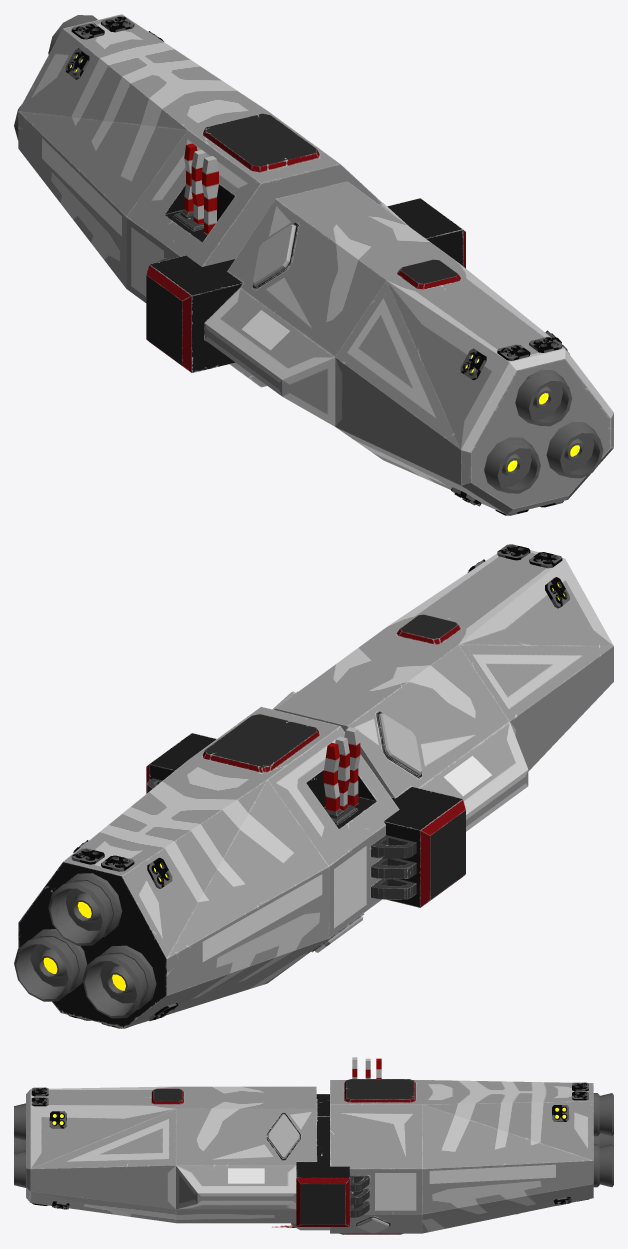
Rendered from Moxella Final.fbx.
3 views of the same model, one above another, from view 1: azimuth 30°, elevation 25°; view 2: azimuth 150°, elevation 25°; view 3: azimuth 270°, elevation 25° (orthographic). The views are drawn at different scales.
Parts seen in each view (by area): view 1: Moxella_Remake_Bow_Section, Moxella_Remake_Stern Section, Moxella_Remake_Engines; view 2: Moxella_Remake_Stern Section, Moxella_Remake_Bow_Section, Moxella_Remake_Engines; view 3: Moxella_Remake_Bow_Section, Moxella_Remake_Stern Section, Moxella_Remake_Engines.
Boxes of the visible parts, box(x1,y1,x2,y2) form: Moxella_Remake_Bow_Section: box(146, 181, 613, 514); Moxella_Remake_Stern Section: box(18, 14, 381, 387); Moxella_Remake_Engines: box(14, 15, 603, 515); Moxella_Remake_Stern Section: box(18, 706, 416, 1028); Moxella_Remake_Bow_Section: box(146, 550, 613, 907); Moxella_Remake_Engines: box(14, 544, 569, 1028); Moxella_Remake_Bow_Section: box(26, 1086, 350, 1230); Moxella_Remake_Stern Section: box(330, 1057, 593, 1234); Moxella_Remake_Engines: box(14, 1082, 613, 1209).
Bounding box in the file's own units: 470 × 1359 × 359.
